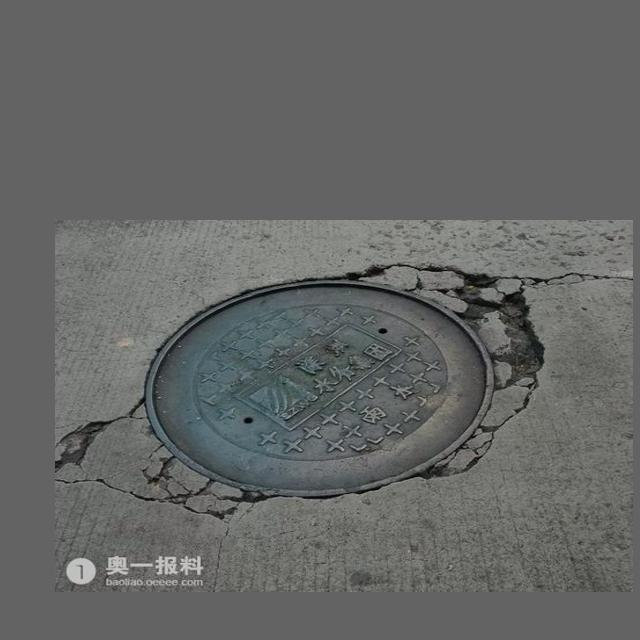circle: (66, 253, 553, 518)
